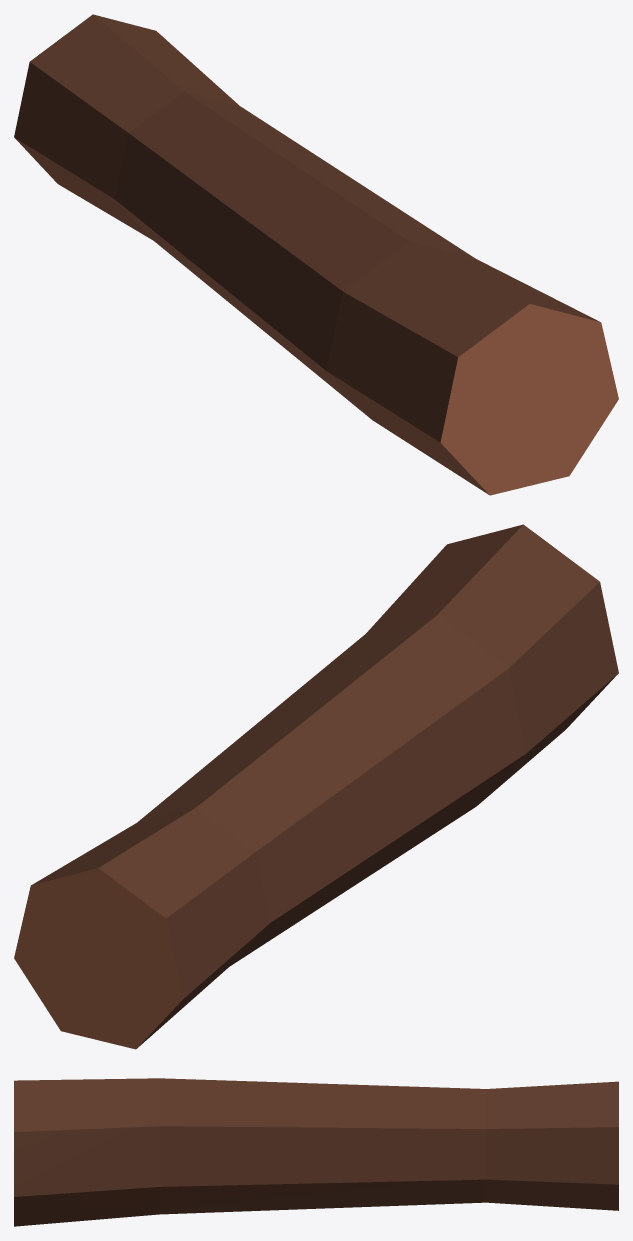
Rendered from DeadLog.fbx.
3 views of the same model, one above another, from view 1: azimuth 30°, elevation 25°; view 2: azimuth 150°, elevation 25°; view 3: azimuth 270°, elevation 25° (orthographic). The views are drawn at different scales.
Parts seen in each view (by area): view 1: Cylinder; view 2: Cylinder; view 3: Cylinder.
Boxes of the visible parts, x1=… form: Cylinder: x1=14, y1=14, x2=618, y2=495; Cylinder: x1=14, y1=524, x2=618, y2=1049; Cylinder: x1=14, y1=1078, x2=618, y2=1226.
Size of the model in its own units: 119 by 107 by 446.
